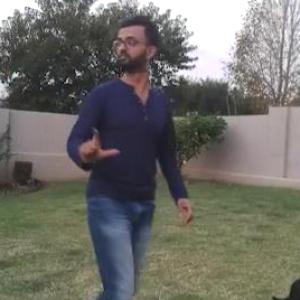land_hand: (74, 123, 120, 165)
